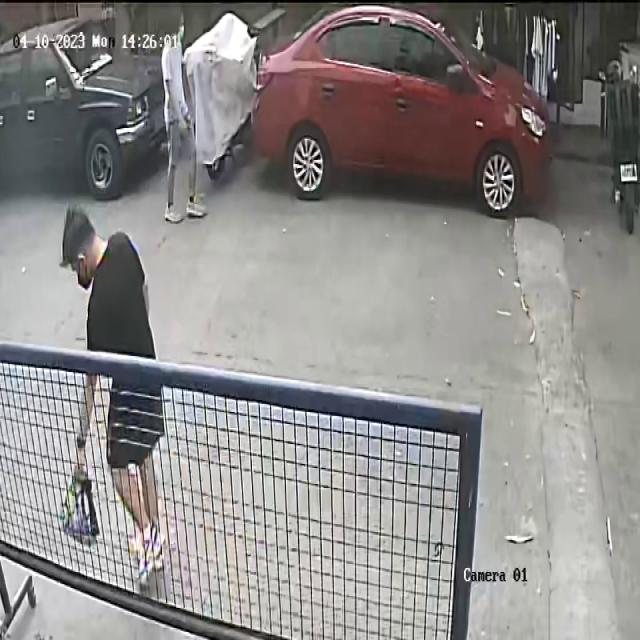garbage_dumping: (59, 452, 99, 542)
